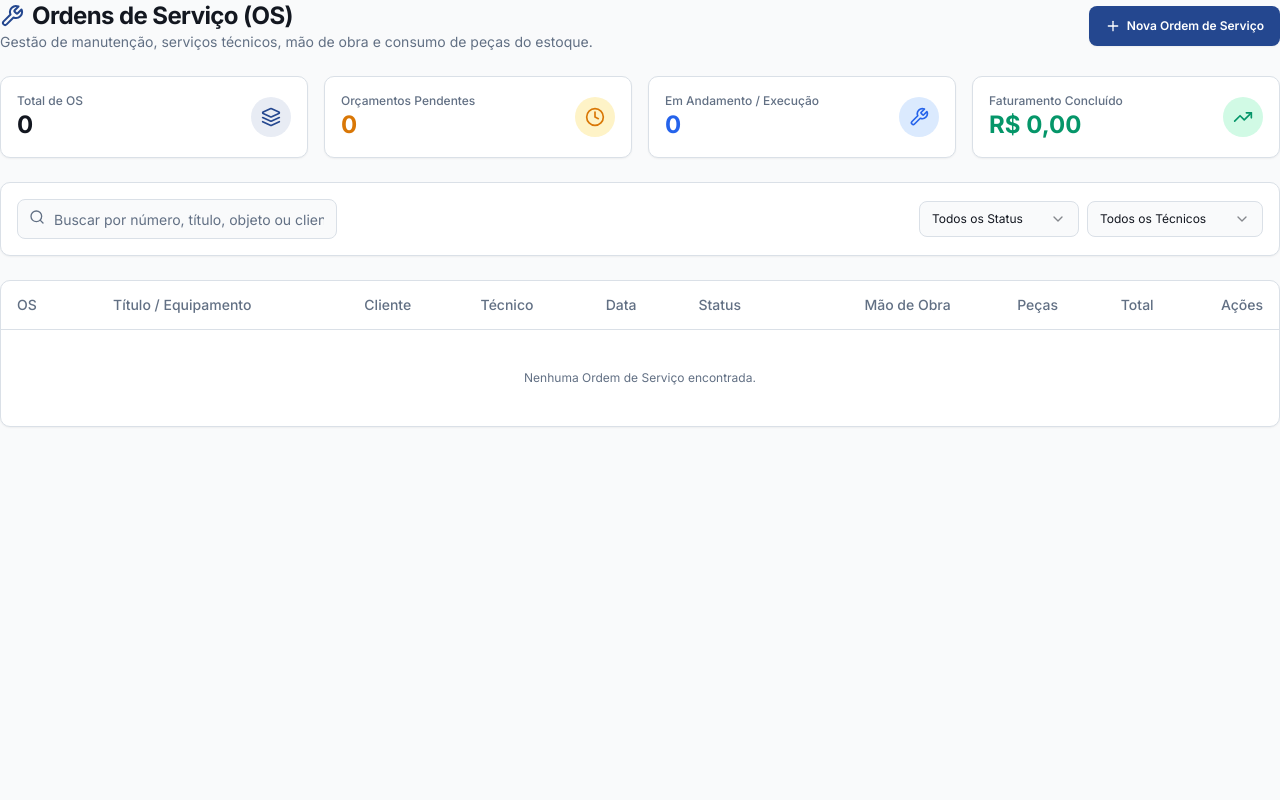
Test case: ServiceOrders Component › deve abrir o modal de criação ao clicar em Nova Ordem de Serviço
Step 1. Click the button "Nova Ordem de Serviço" → click(1184, 26), box [1089,6,1279,46]
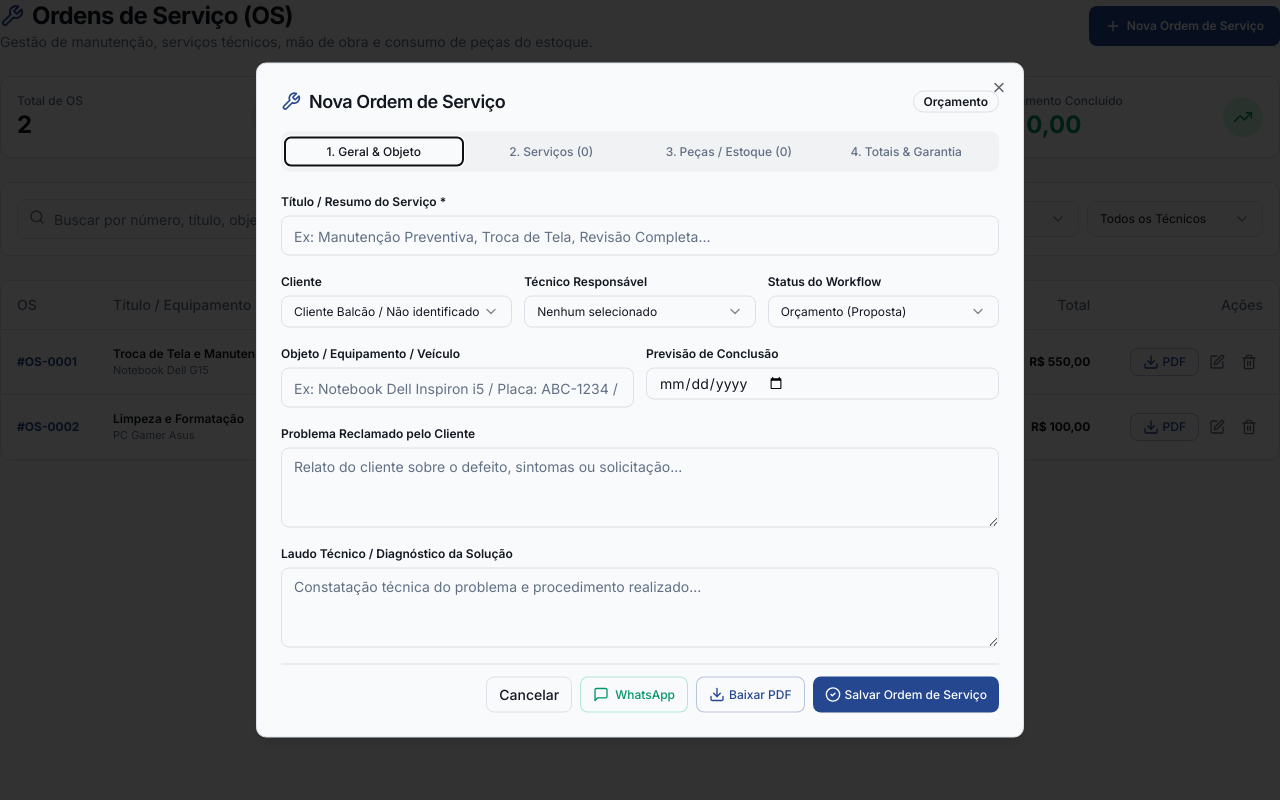
expect the tab "1. Geral & Objeto" is shown: met, box [285,138,462,166]
expect the tab "2. Serviços (0)" is shown: met, box [462,138,640,166]
expect the tab "3. Peças / Estoque (0)" is shown: met, box [640,138,818,166]
